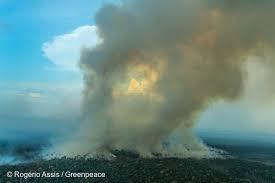yanwu: (36, 0, 275, 162)
